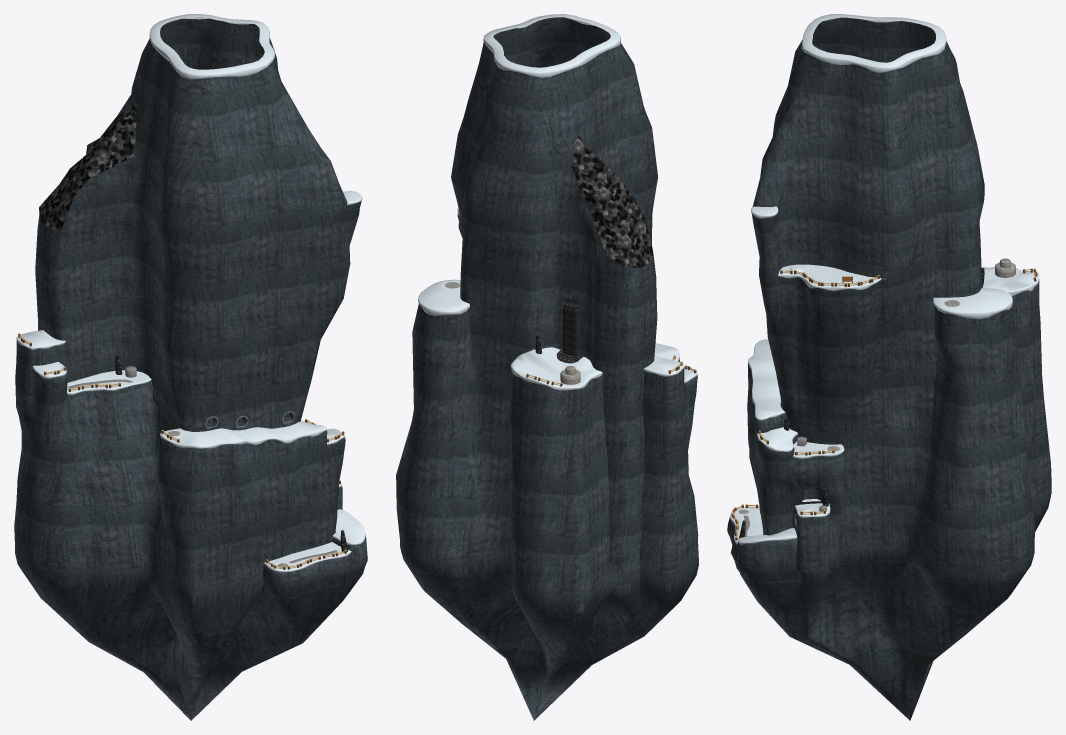
File: FrozenMountainPlanet.fbx
3 views of the same model, side by side, from view 1: azimuth 30°, elevation 25°; view 2: azimuth 150°, elevation 25°; view 3: azimuth 270°, elevation 25° (orthographic). The views are drawn at different scales.
Parts seen in each view (by area): view 1: FrozenMountainPlanet; view 2: FrozenMountainPlanet; view 3: FrozenMountainPlanet.
Part boxes in pixels (x1,y1,x2,y2): FrozenMountainPlanet: (14,14,367,720); FrozenMountainPlanet: (396,14,698,720); FrozenMountainPlanet: (727,14,1051,720).
Size of the model in its own units: 1198097 by 2917865 by 1254601.
